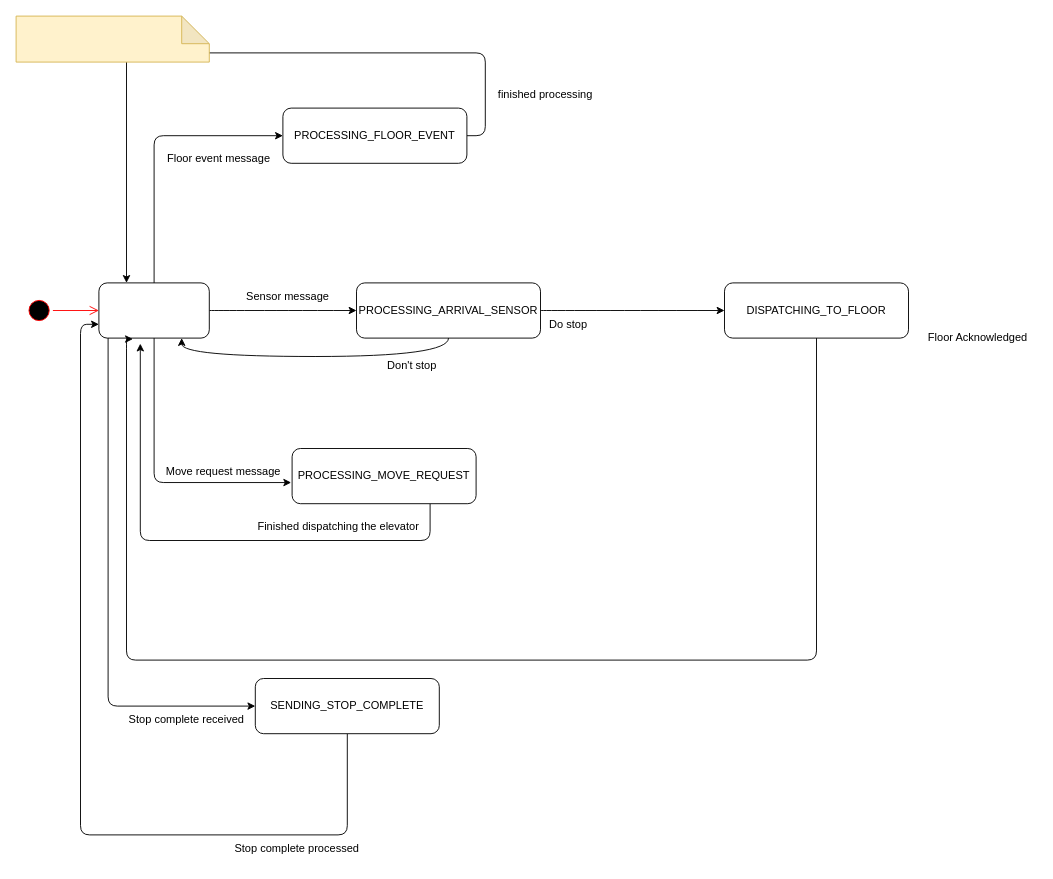
Some shapes in this 1053 by 879 pixel diagram are drawn without their labels. The centre of each missing label's shape, as x and y in pixels:
"IDLE" goes at [153,310].
"Scheduler State Machine" goes at [112,38].
